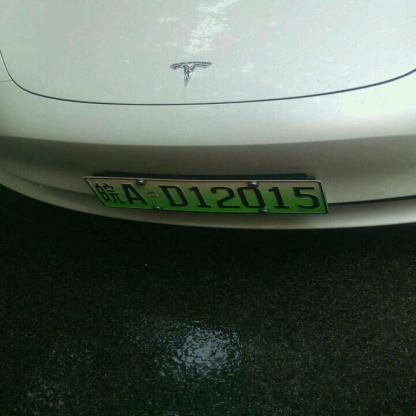lp: (85, 177, 328, 211)
